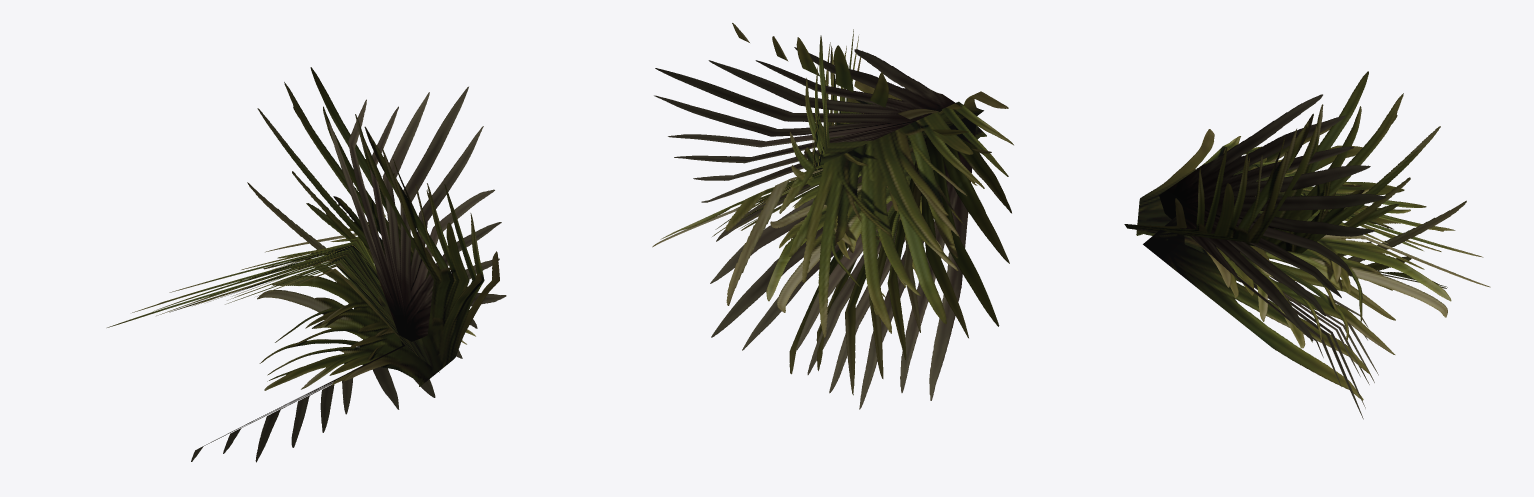
File: MEP_Pandani_DP_04.fbx
3 renders of one model, left to right at view 1: azimuth 30°, elevation 25°; view 2: azimuth 150°, elevation 25°; view 3: azimuth 270°, elevation 25°, orthographic. The views are drawn at different scales.
Parts seen in each view (by area): view 1: MEP_Pandani_DP_04; view 2: MEP_Pandani_DP_04; view 3: MEP_Pandani_DP_04.
Part boxes in pixels (x1=…): MEP_Pandani_DP_04: x1=107, y1=67, x2=506, y2=462; MEP_Pandani_DP_04: x1=652, y1=23, x2=1013, y2=409; MEP_Pandani_DP_04: x1=1124, y1=71, x2=1490, y2=419.
Size of the model in its own units: 1.97 by 2.14 by 1.93.
